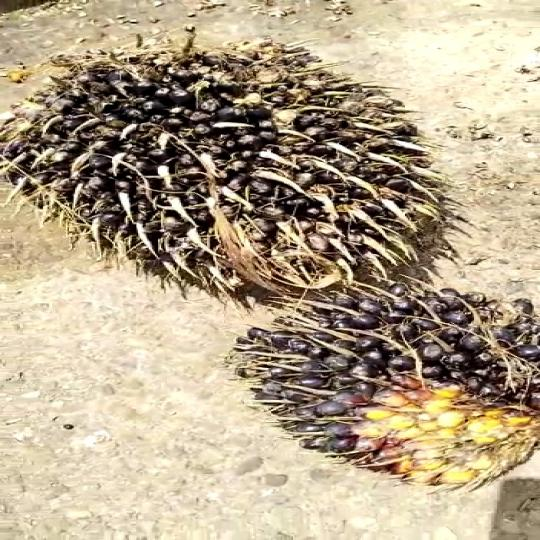mentah: (0, 31, 475, 297), (244, 282, 540, 502)
